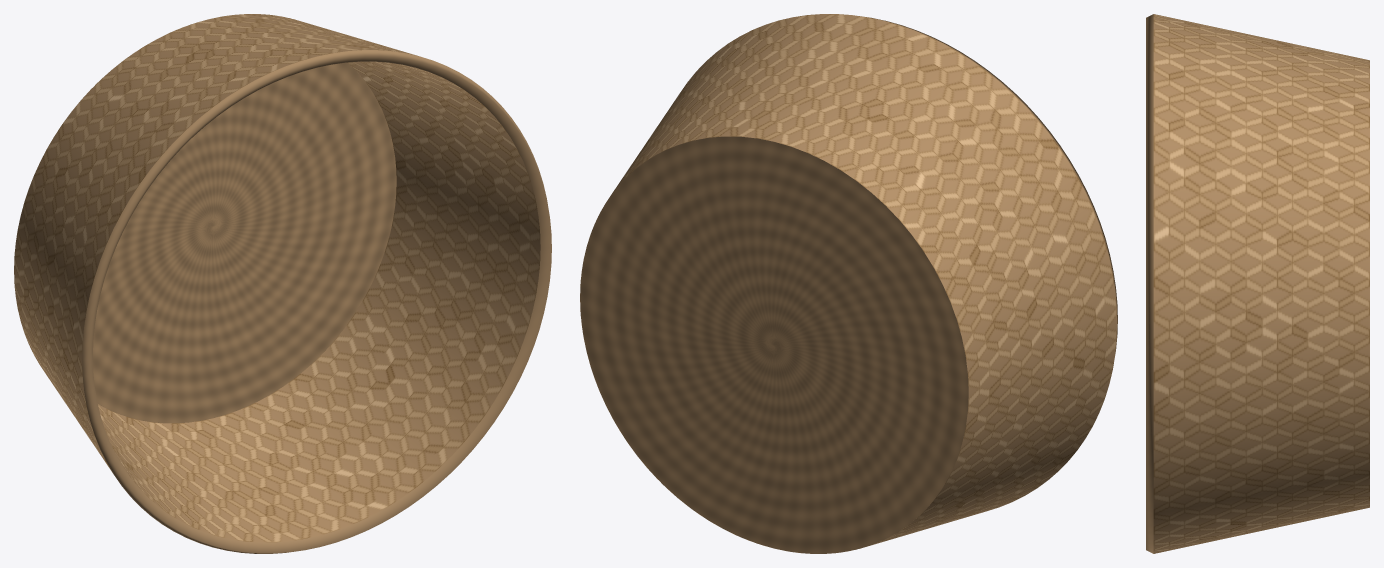
Rendered from basket.obj.
3 views of the same model, side by side, from view 1: azimuth 30°, elevation 25°; view 2: azimuth 150°, elevation 25°; view 3: azimuth 270°, elevation 25° (orthographic).
Visible parts, largest first — view 1: part2, part3, part0, part1; view 2: part4, part0, part1; view 3: part0, part1.
Part boxes in pixels (x1,y1,x2,y2): part2: (98, 61, 540, 542); part3: (93, 62, 396, 423); part0: (14, 14, 417, 471); part1: (82, 50, 551, 553); part4: (580, 136, 968, 553); part0: (580, 14, 1117, 553); part1: (870, 17, 1117, 353); part0: (1153, 14, 1369, 553); part1: (1146, 14, 1153, 553).
Size of the model in its own units: 0.35 by 0.35 by 0.145.
4 materials, 3 textured.
